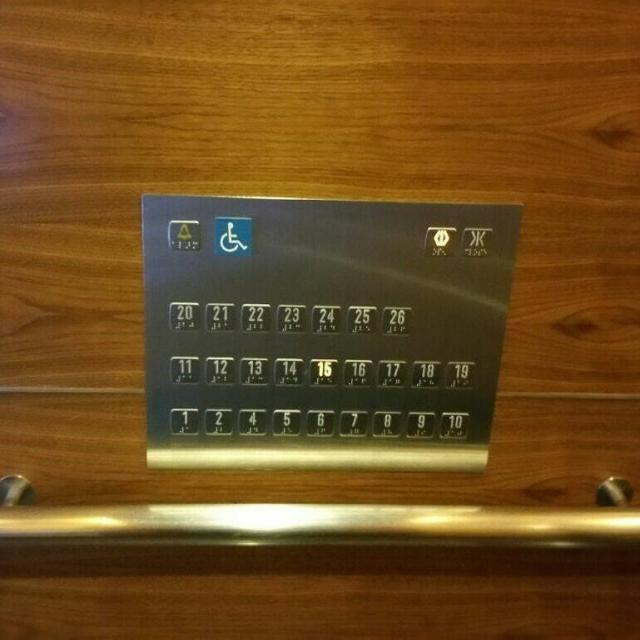1: (169, 407, 200, 435)
10: (438, 412, 468, 438)
11: (170, 357, 200, 383)
12: (204, 357, 234, 383)
13: (239, 357, 268, 384)
14: (274, 358, 303, 385)
15: (310, 358, 338, 386)
16: (343, 359, 372, 387)
17: (377, 360, 406, 388)
18: (411, 361, 440, 387)
19: (447, 361, 474, 389)
2: (203, 408, 232, 435)
20: (168, 301, 201, 331)
21: (204, 302, 236, 332)
22: (240, 303, 270, 333)
23: (276, 304, 307, 333)
24: (310, 305, 342, 334)
25: (346, 305, 376, 334)
26: (380, 306, 414, 335)
4: (237, 408, 266, 435)
5: (273, 409, 300, 435)
6: (305, 410, 333, 436)
7: (339, 410, 366, 436)
8: (371, 411, 400, 437)
9: (406, 411, 434, 437)
CH: (212, 216, 252, 256)
alarm: (166, 220, 200, 250)
close: (459, 225, 494, 259)
open: (423, 225, 457, 258)
